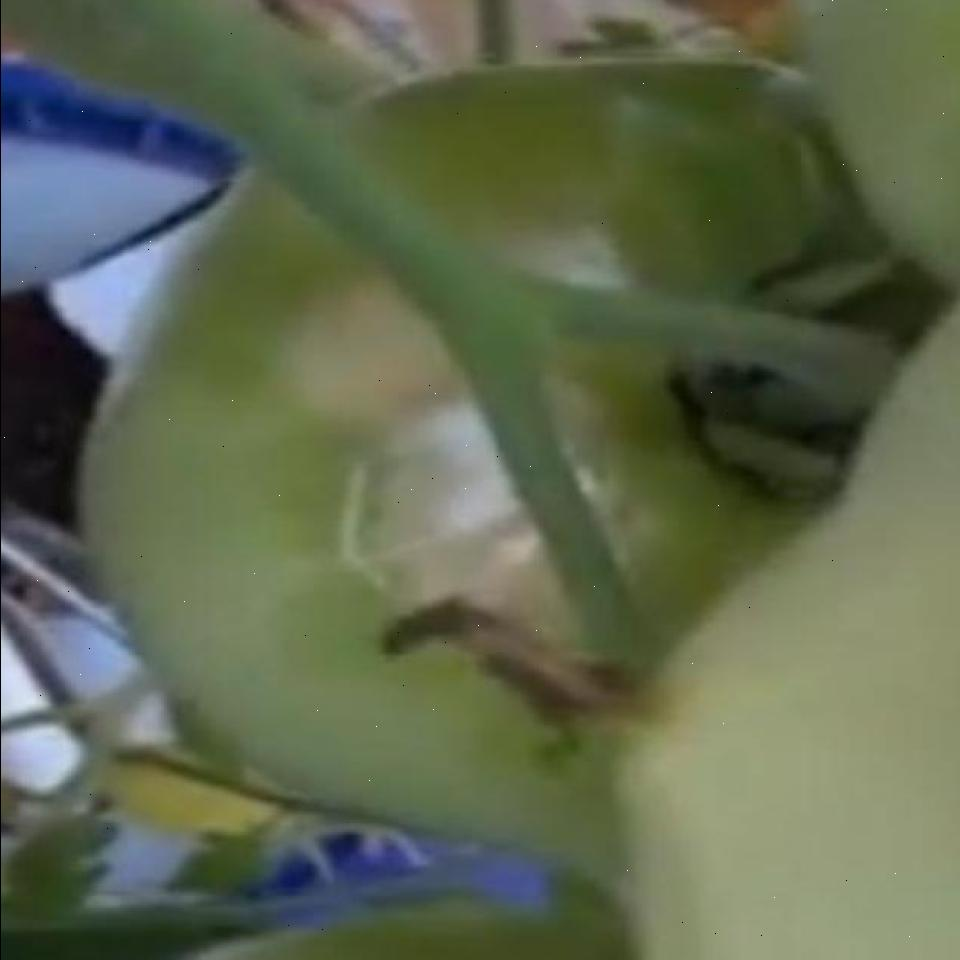Sunscald: (268, 223, 630, 703)
